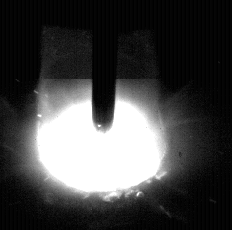arame: (93, 0, 116, 132)
poca: (35, 0, 169, 230)
